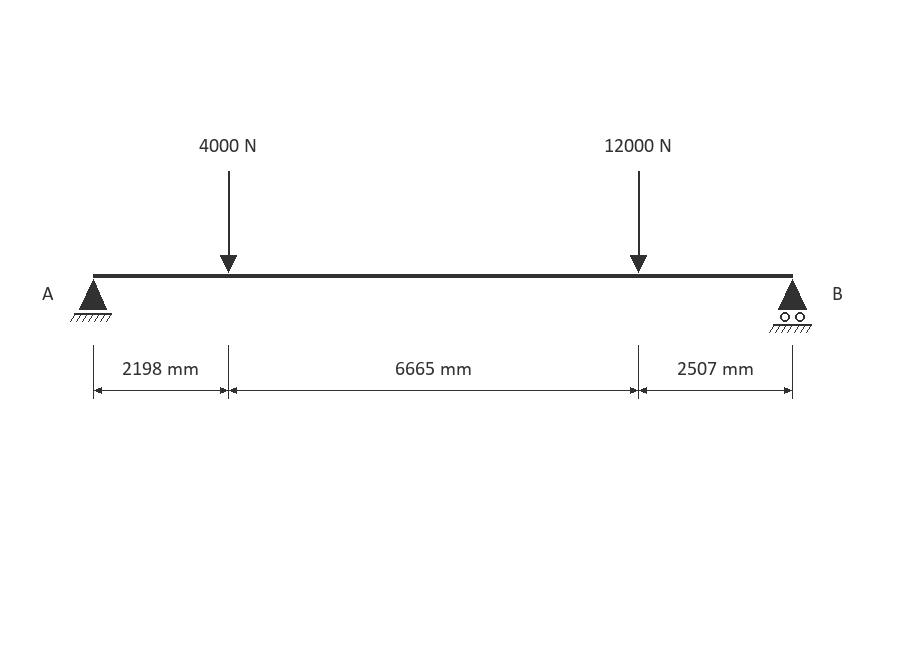pin_support: (70, 279, 112, 322)
point_load: (220, 171, 237, 273), (630, 171, 647, 273)
roller_support: (769, 279, 812, 333)
